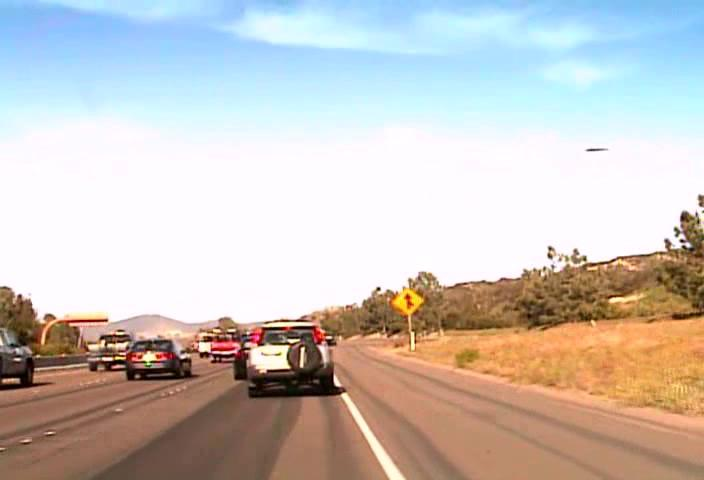merge: (391, 285, 424, 316)
